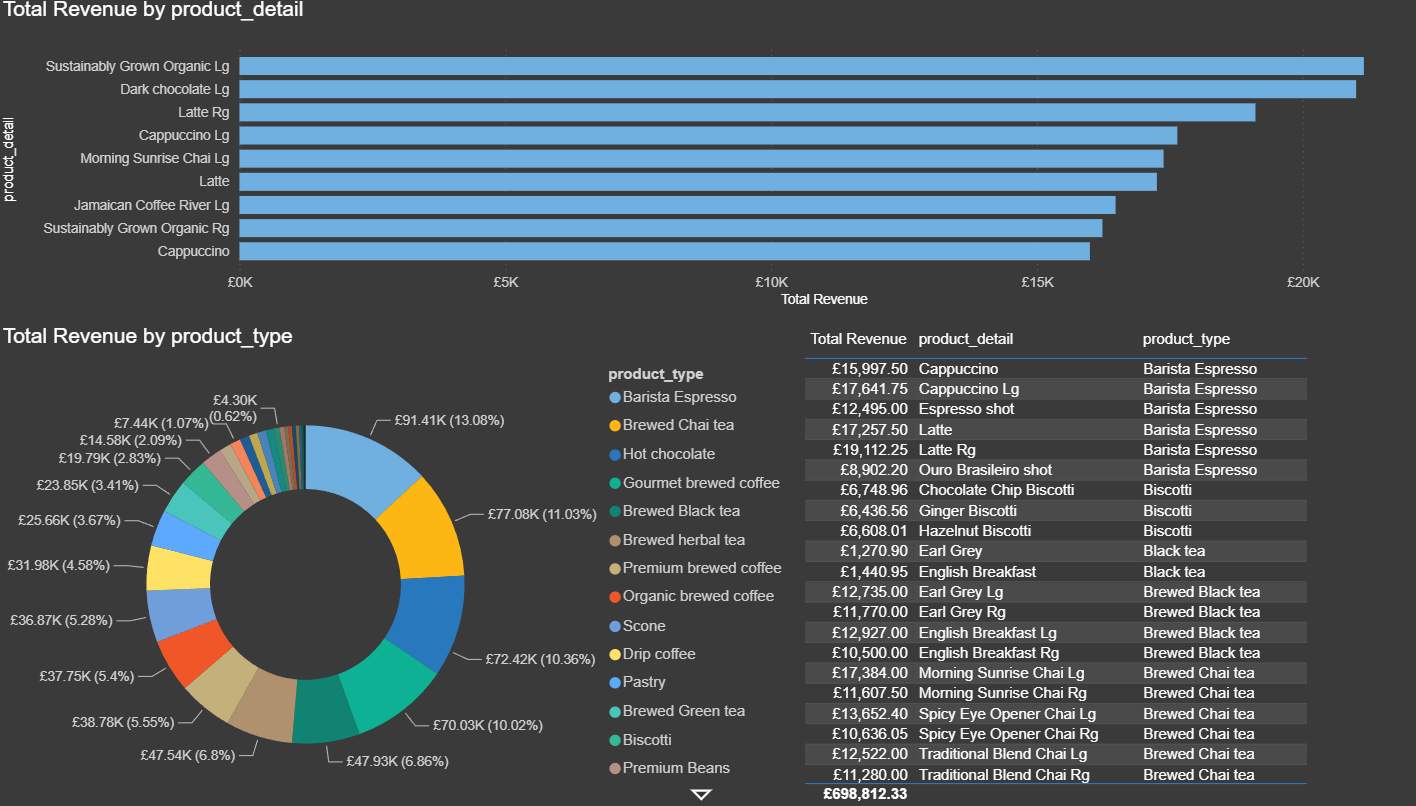

Layout of this report page (visuals, bound fields, positions):
{"tool":"powerbi","page":{"name":"Page 2 - Products","canvas":[1280,720],"ordinal":1},"visuals":[{"type":"barChart","fields":{"Category":["Dim_Product.product_detail"],"Y":["Fact_Transactions.Total Revenue"]},"box":[0,0,1280,280.1],"z":0},{"type":"donutChart","fields":{"Y":["Fact_Transactions.Total Revenue"],"Category":["Dim_Product.product_type"]},"box":[0,289.8,710,429.9],"z":1000},{"type":"tableEx","fields":{"Values":["Fact_Transactions.Total Revenue","Dim_Product.product_detail","Dim_Product.product_type"]},"box":[710,290,570,430],"z":2000}]}

Visuals, with their boxes in screenshot pixels (x1, y1, x2, y2), scaled from the page's 1280x720 canvas onto the 1416x806 screenshot:
barChart - Dim_Product.product_detail x Fact_Transactions.Total Revenue: <bbox>0, 0, 1415, 314</bbox>
donutChart - Fact_Transactions.Total Revenue x Dim_Product.product_type: <bbox>0, 324, 785, 805</bbox>
tableEx - Fact_Transactions.Total Revenue x Dim_Product.product_detail: <bbox>785, 325, 1415, 805</bbox>
